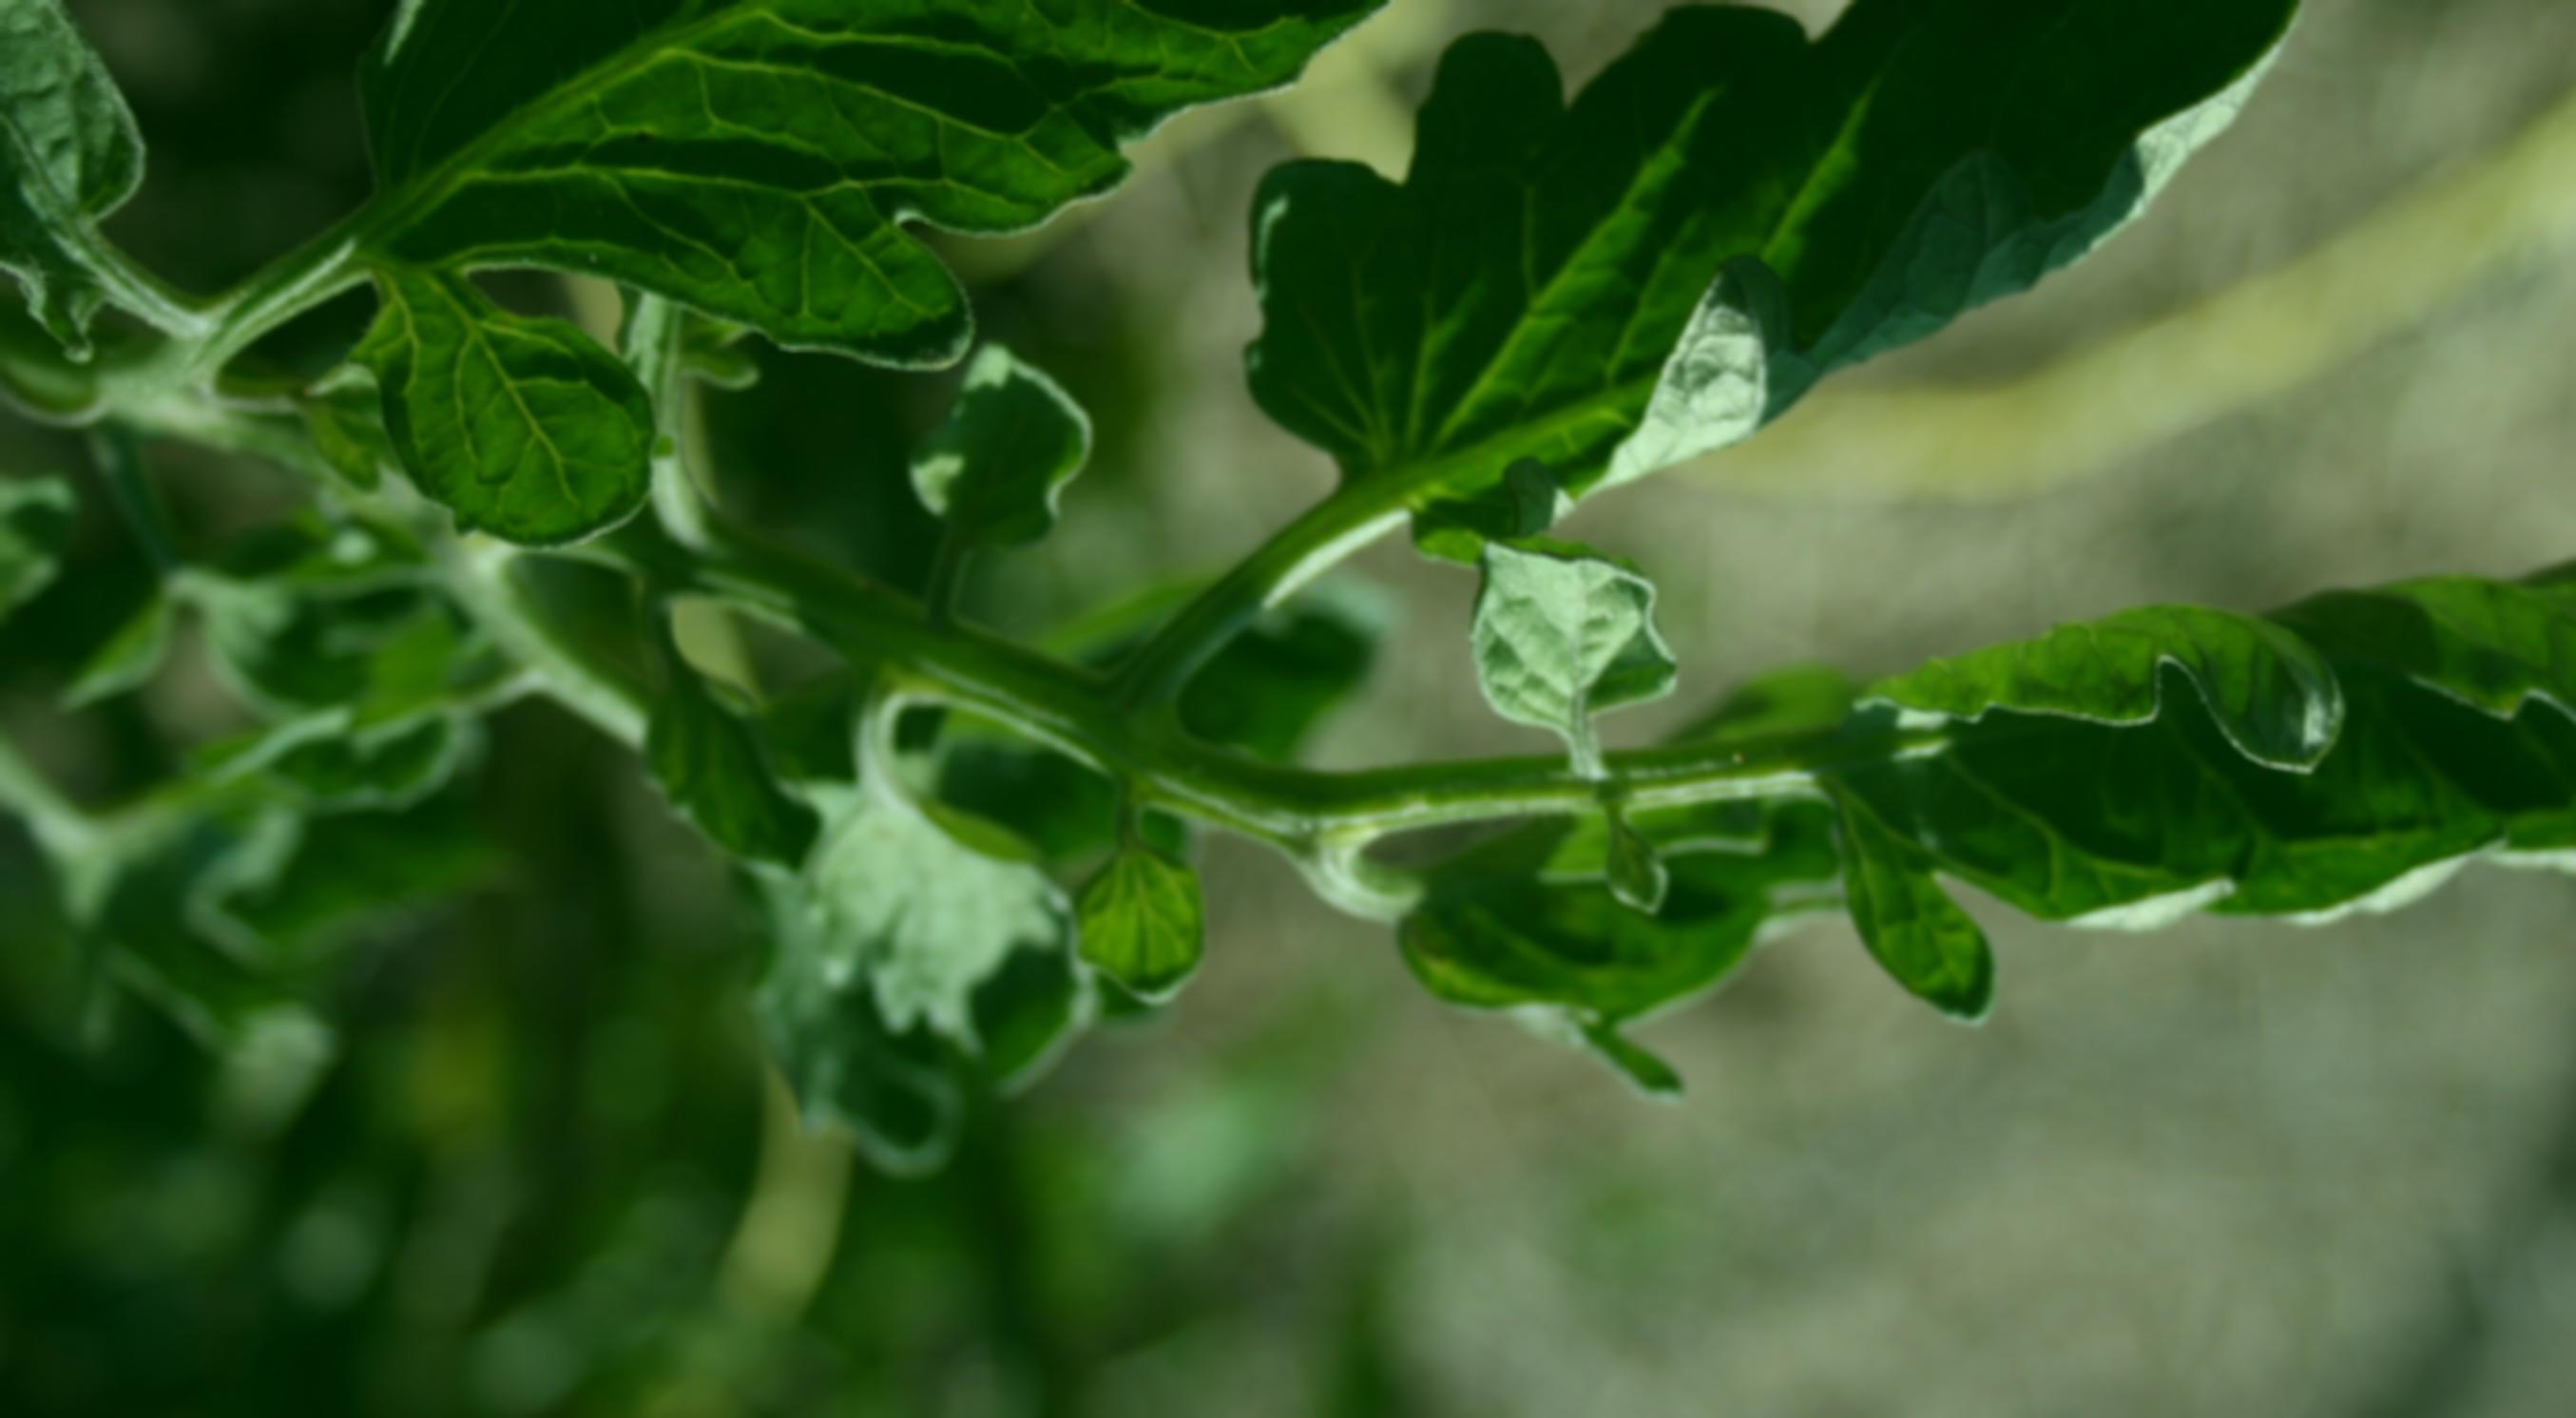Tomato leaf: (1271, 0, 2349, 573), (262, 0, 1565, 410), (1643, 492, 2576, 1058)
